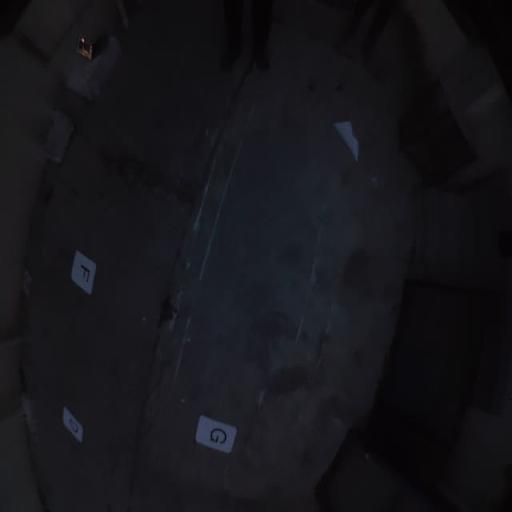D: (62, 407, 84, 444)
F: (71, 251, 97, 294)
G: (195, 415, 237, 454)
